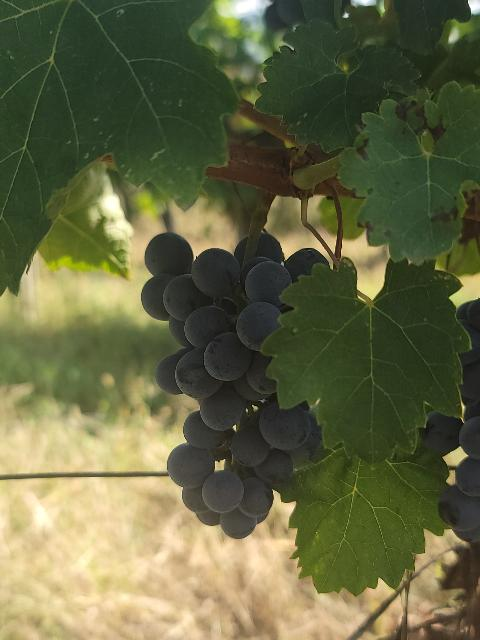grapes: (141, 232, 326, 539)
